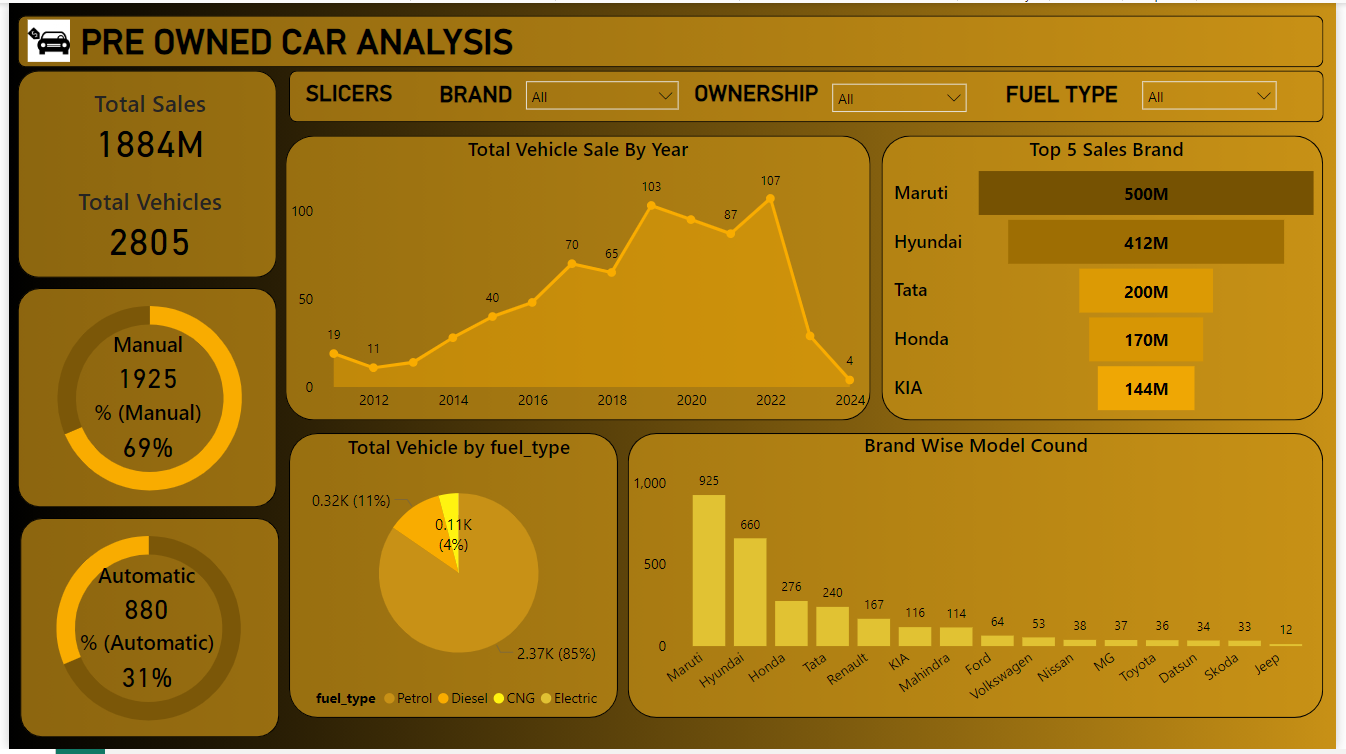

What the dashboard file says about the page in this screenshot:
{"tool":"powerbi","page":{"name":"Page 1","canvas":[1280,720],"ordinal":0},"visuals":[{"type":"shape","box":[9,11.5,1260.3,50],"z":0},{"type":"shape","box":[9,65.4,250,200],"z":1000},{"type":"card","title":"Total Sales","fields":{"Values":["projects pre_owned_cars.totalsales"]},"box":[38.5,80.8,194.9,74.4],"z":2000},{"type":"card","title":"Total Vehicles","fields":{"Values":["projects pre_owned_cars.totalunits"]},"box":[38.5,174.4,194.9,74.4],"z":3000},{"type":"shape","box":[9,275.6,250,211.5],"z":4000},{"type":"donutChart","title":"Manual","fields":{"Y":["projects pre_owned_cars.totalunits"],"Category":["projects pre_owned_cars.transmission"]},"box":[6.2,265,260,232.5],"z":5000},{"type":"shape","box":[10.3,497.4,250,211.5],"z":6000},{"type":"card","title":"Manual","fields":{"Values":["projects pre_owned_cars.manual"]},"box":[80,315,108.8,66.2],"z":7000},{"type":"donutChart","title":"Manual","fields":{"Y":["projects pre_owned_cars.totalunits"],"Category":["projects pre_owned_cars.transmission"]},"box":[0,487.5,270,232.5],"z":8000},{"type":"card","title":"Automatic","fields":{"Values":["projects pre_owned_cars.Automatic"]},"box":[78.8,537.5,108.8,66.2],"z":9000},{"type":"card","title":"% (Manual)","fields":{"Values":["projects pre_owned_cars.% Of Manual"]},"box":[76.2,381.2,116.2,66.2],"z":10000},{"type":"card","title":"% (Automatic)","fields":{"Values":["projects pre_owned_cars.% of Automatic"]},"box":[62.5,603.8,141.2,66.2],"z":11000},{"type":"shape","box":[266.2,127.5,565,275],"z":12000},{"type":"shape","box":[842.5,127.5,426.2,275],"z":13000},{"type":"shape","box":[270,65,998.8,50],"z":14000},{"type":"areaChart","title":"Total Vehicle Sale By Year","fields":{"Category":["projects pre_owned_cars.reg_year.Variation.Date Hierarchy.Year","projects pre_owned_cars.reg_year.Variation.Date Hierarchy.Quarter","projects pre_owned_cars.reg_year.Variation.Date Hierarchy.Month","projects pre_owned_cars.reg_year.Variation.Date Hierarchy.Day"],"Y":["projects pre_owned_cars.totalunits"]},"box":[266.2,127.5,565,275],"z":15000},{"type":"funnel","title":"Top 5 Sales Brand","fields":{"Category":["projects pre_owned_cars.brand"],"Y":["projects pre_owned_cars.totalsales"]},"box":[848.8,127.5,420,275],"z":16000},{"type":"shape","box":[270,415,317.5,275],"z":17000},{"type":"pieChart","title":"Total Vehicle by fuel_type","fields":{"Y":["projects pre_owned_cars.totalunits"],"Category":["projects pre_owned_cars.fuel_type"]},"box":[281.2,415,306.2,275],"z":18000},{"type":"shape","box":[597.5,415,671.2,275],"z":19000},{"type":"columnChart","title":"Brand Wise Model Cound","fields":{"Category":["projects pre_owned_cars.brand"],"Y":["CountNonNull(projects pre_owned_cars.model)"]},"box":[596.9,414.4,672.4,284],"z":20000},{"type":"textbox","box":[281.2,70,103.8,38.8],"z":21000},{"type":"textbox","box":[410,71.2,98.8,38.8],"z":22000},{"type":"slicer","fields":{"Values":["projects pre_owned_cars.brand"]},"box":[488.8,65,167.5,50],"z":23000},{"type":"textbox","box":[656.2,70,146.2,38.8],"z":24000},{"type":"slicer","fields":{"Values":["projects pre_owned_cars.ownership"]},"box":[783.8,67.5,150,50],"z":25000},{"type":"textbox","box":[956.4,71.4,137.2,38.4],"z":26000},{"type":"slicer","fields":{"Values":["projects pre_owned_cars.fuel_type"]},"box":[1083.8,65,150,50],"z":27000},{"type":"textbox","box":[64.5,13.7,467.9,53.5],"z":28000},{"type":"image","box":[13.7,6.9,50.8,57.6],"z":29000}]}

Visuals, with their boxes in screenshot pixels (x1, y1, x2, y2), scaled from the page's 1280x720 canvas onto the 1346x754 screenshot:
shape: {"x1": 9, "y1": 12, "x2": 1335, "y2": 64}
shape: {"x1": 9, "y1": 68, "x2": 272, "y2": 278}
"Total Sales" card: {"x1": 40, "y1": 85, "x2": 245, "y2": 163}
"Total Vehicles" card: {"x1": 40, "y1": 183, "x2": 245, "y2": 261}
shape: {"x1": 9, "y1": 289, "x2": 272, "y2": 510}
"Manual" donutChart: {"x1": 7, "y1": 278, "x2": 280, "y2": 521}
shape: {"x1": 11, "y1": 521, "x2": 274, "y2": 742}
"Manual" card: {"x1": 84, "y1": 330, "x2": 199, "y2": 399}
"Manual" donutChart: {"x1": 0, "y1": 511, "x2": 284, "y2": 753}
"Automatic" card: {"x1": 83, "y1": 563, "x2": 197, "y2": 632}
"% (Manual)" card: {"x1": 80, "y1": 399, "x2": 202, "y2": 469}
"% (Automatic)" card: {"x1": 66, "y1": 632, "x2": 214, "y2": 702}
shape: {"x1": 280, "y1": 134, "x2": 874, "y2": 422}
shape: {"x1": 886, "y1": 134, "x2": 1334, "y2": 422}
shape: {"x1": 284, "y1": 68, "x2": 1334, "y2": 120}
"Total Vehicle Sale By Year" areaChart: {"x1": 280, "y1": 134, "x2": 874, "y2": 422}
"Top 5 Sales Brand" funnel: {"x1": 893, "y1": 134, "x2": 1334, "y2": 422}
shape: {"x1": 284, "y1": 435, "x2": 618, "y2": 723}
"Total Vehicle by fuel_type" pieChart: {"x1": 296, "y1": 435, "x2": 618, "y2": 723}
shape: {"x1": 628, "y1": 435, "x2": 1334, "y2": 723}
"Brand Wise Model Cound" columnChart: {"x1": 628, "y1": 434, "x2": 1335, "y2": 731}
textbox: {"x1": 296, "y1": 73, "x2": 405, "y2": 114}
textbox: {"x1": 431, "y1": 75, "x2": 535, "y2": 115}
slicer - projects pre_owned_cars.brand: {"x1": 514, "y1": 68, "x2": 690, "y2": 120}
textbox: {"x1": 690, "y1": 73, "x2": 844, "y2": 114}
slicer - projects pre_owned_cars.ownership: {"x1": 824, "y1": 71, "x2": 982, "y2": 123}
textbox: {"x1": 1006, "y1": 75, "x2": 1150, "y2": 115}
slicer - projects pre_owned_cars.fuel_type: {"x1": 1140, "y1": 68, "x2": 1297, "y2": 120}
textbox: {"x1": 68, "y1": 14, "x2": 560, "y2": 70}
image: {"x1": 14, "y1": 7, "x2": 68, "y2": 68}
